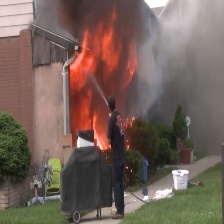fire: (69, 12, 139, 155)
